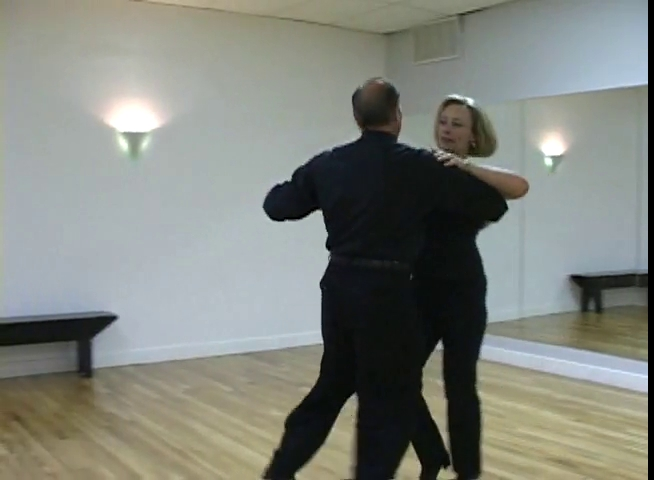person: (264, 77, 508, 480), (409, 94, 529, 479)
